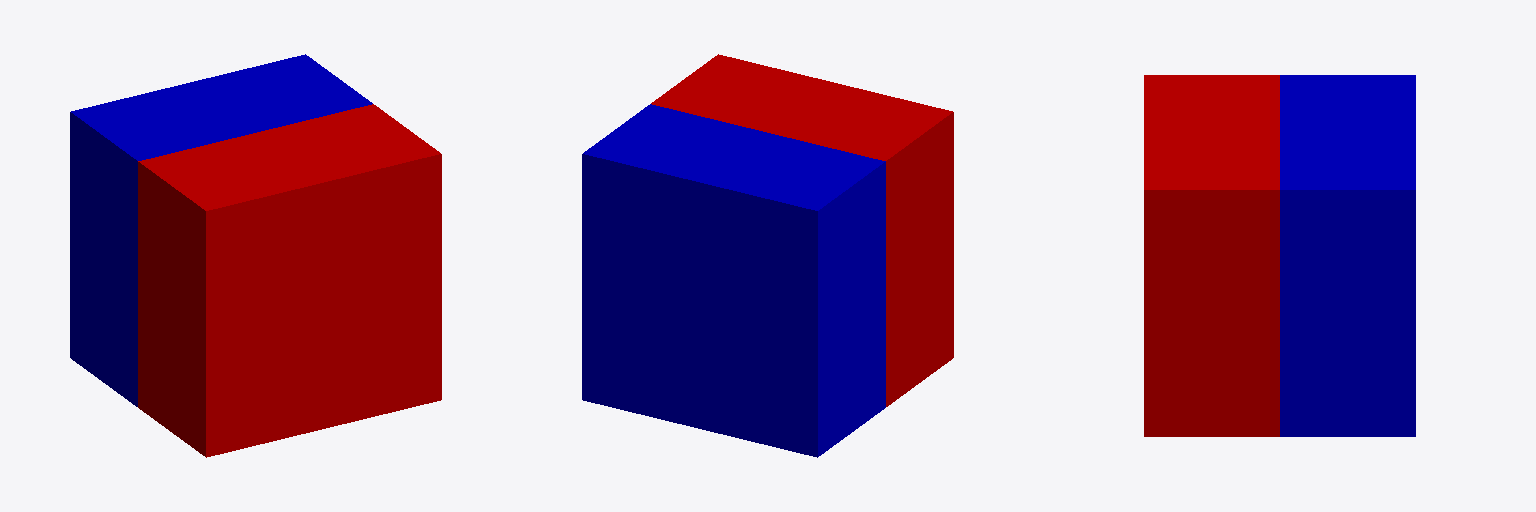
The model's file is cube_two_materials.obj.
3 views of the same model, side by side, from view 1: azimuth 30°, elevation 25°; view 2: azimuth 150°, elevation 25°; view 3: azimuth 270°, elevation 25° (orthographic).
Visible parts, largest first — view 1: Cube; view 2: Cube; view 3: Cube.
Boxes of the visible parts, box(x1,y1,x2,y2) form: Cube: box(70, 54, 441, 457); Cube: box(582, 54, 953, 457); Cube: box(1144, 75, 1415, 436).
Bounding box in the file's own units: 2 × 2 × 2.